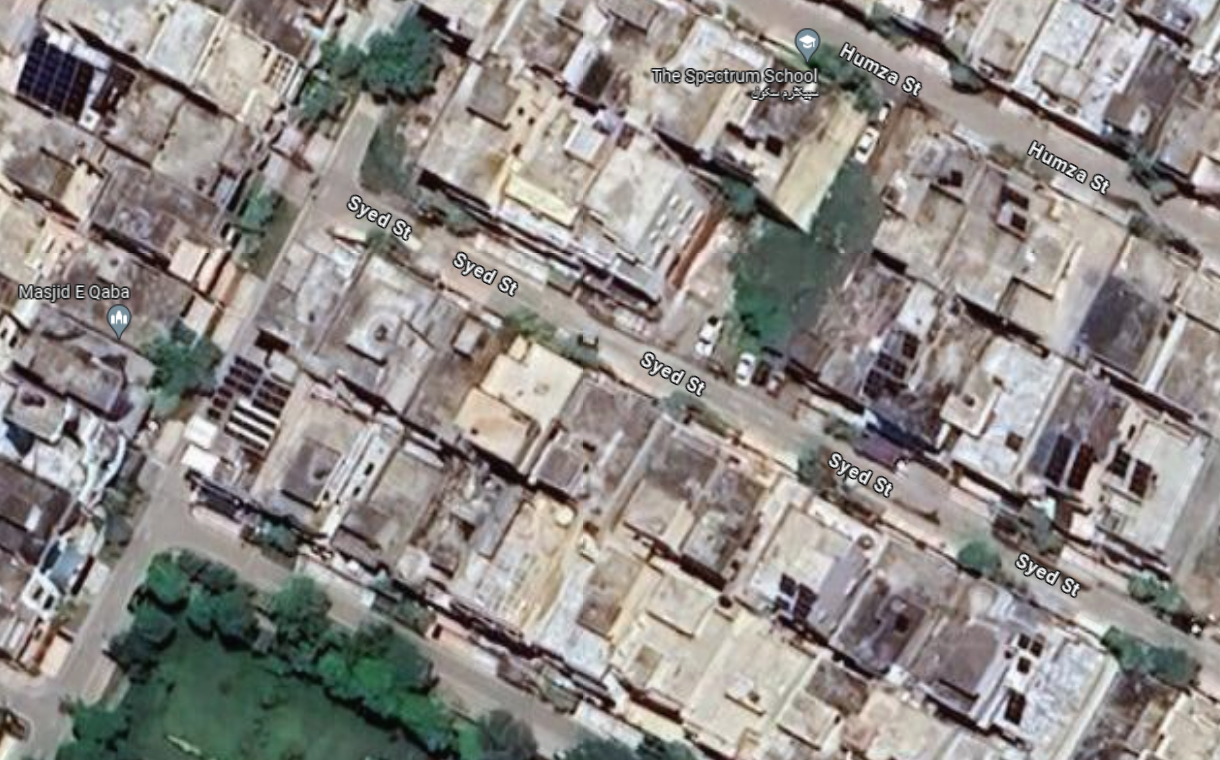solar-panel: (216, 349, 285, 450), (23, 41, 99, 122), (871, 325, 917, 403), (764, 566, 824, 619), (1054, 439, 1106, 494), (1120, 445, 1173, 494), (1013, 629, 1050, 681), (1014, 683, 1030, 723)
